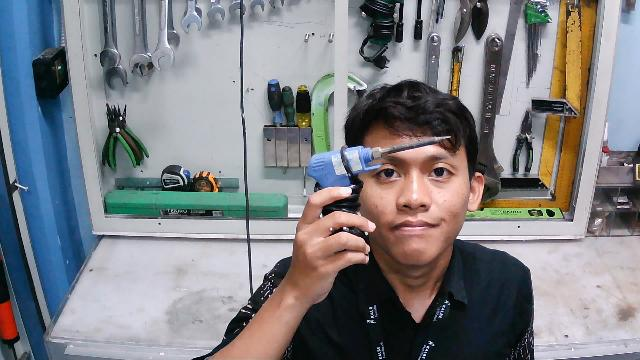solder_electrical: (305, 128, 455, 256)
